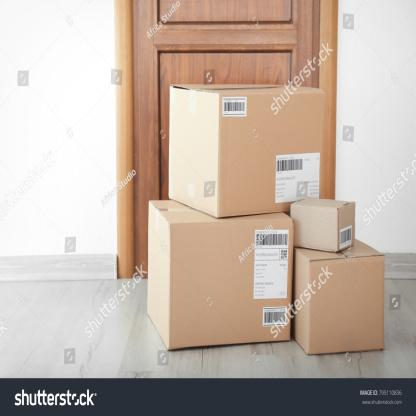box: (169, 220, 294, 348), (215, 88, 320, 218), (309, 253, 385, 357), (292, 203, 338, 253)
